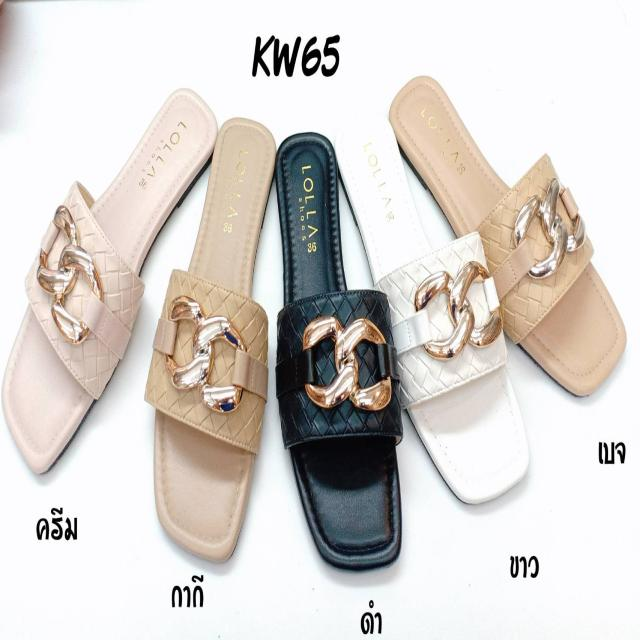bej: (399, 76, 625, 398)
black: (277, 132, 400, 562)
cream: (6, 82, 216, 480)
kakee: (160, 119, 272, 552)
white: (337, 119, 528, 503)
